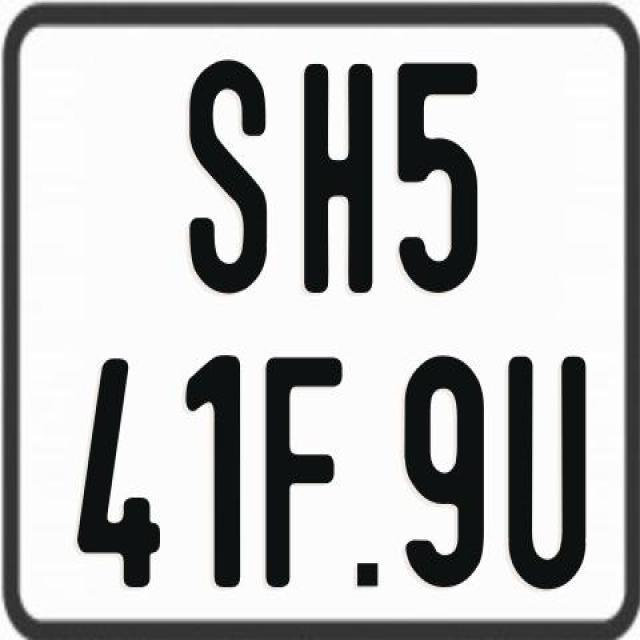1: (182, 351, 242, 588)
4: (76, 355, 167, 592)
5: (396, 64, 484, 293)
9: (401, 350, 483, 590)
F: (265, 357, 347, 592)
H: (300, 60, 370, 298)
S: (190, 56, 274, 288)
U: (504, 356, 582, 596)
